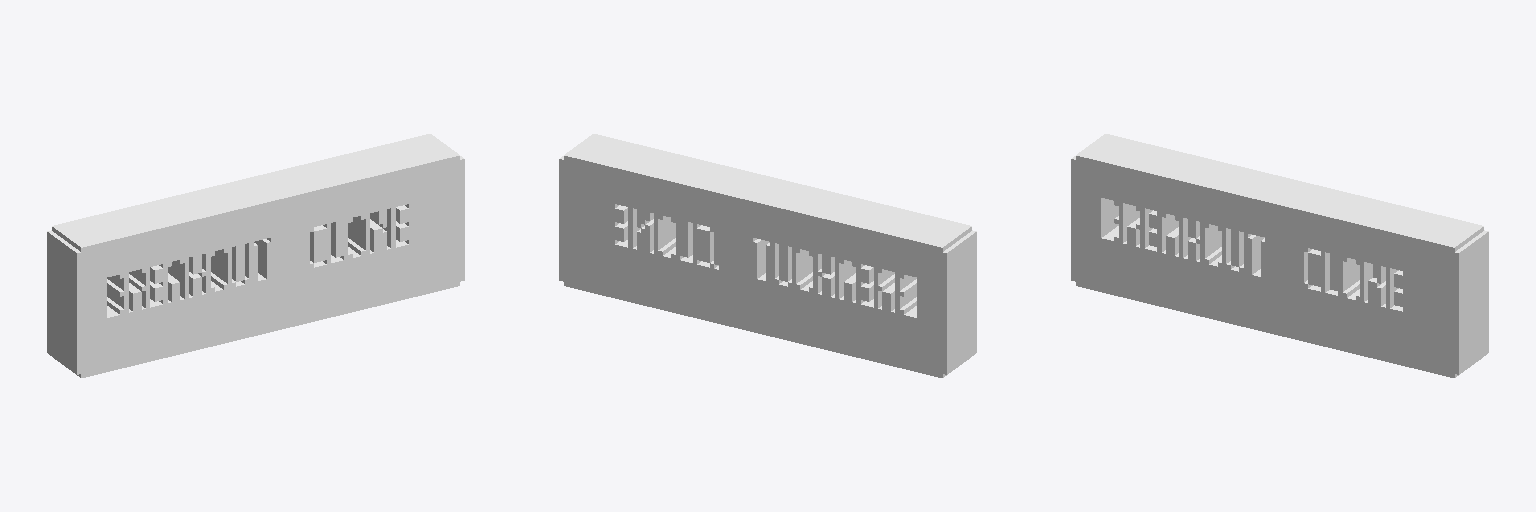
The model's file is TITLE.obj.
3 views of the same model, side by side, from view 1: azimuth 30°, elevation 25°; view 2: azimuth 150°, elevation 25°; view 3: azimuth 330°, elevation 25° (orthographic).
Parts seen in each view (by area): view 1: object 1; view 2: object 1; view 3: object 1.
Part boxes in pixels (x1,y1,x2,y2): object 1: (47, 134, 464, 377); object 1: (559, 134, 976, 377); object 1: (1071, 134, 1488, 377).
Bounding box in the file's own units: 9 × 2.9 × 1.2.